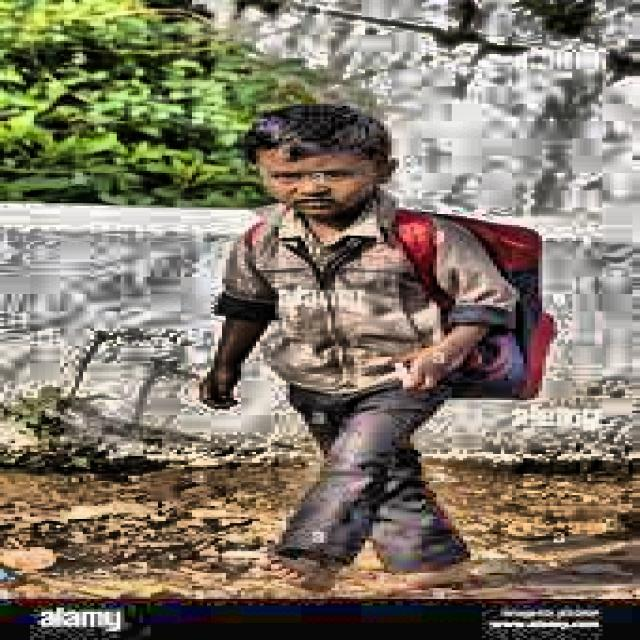Human: (186, 87, 541, 626)
